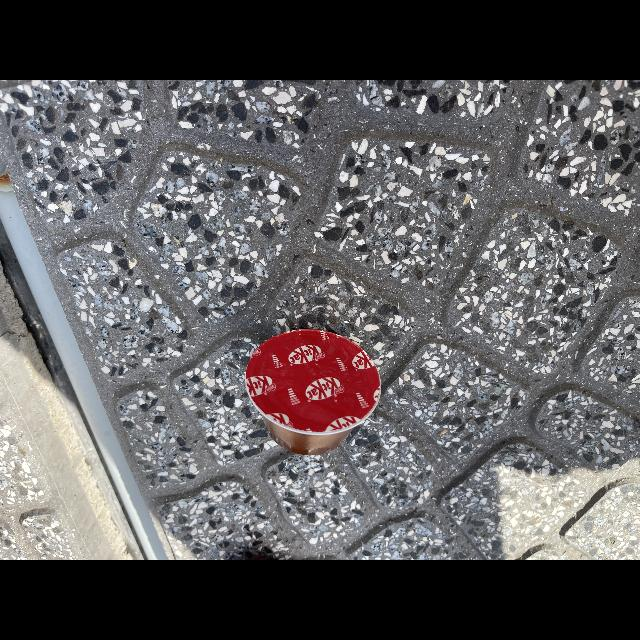intact_capsule: (238, 322, 396, 466)
